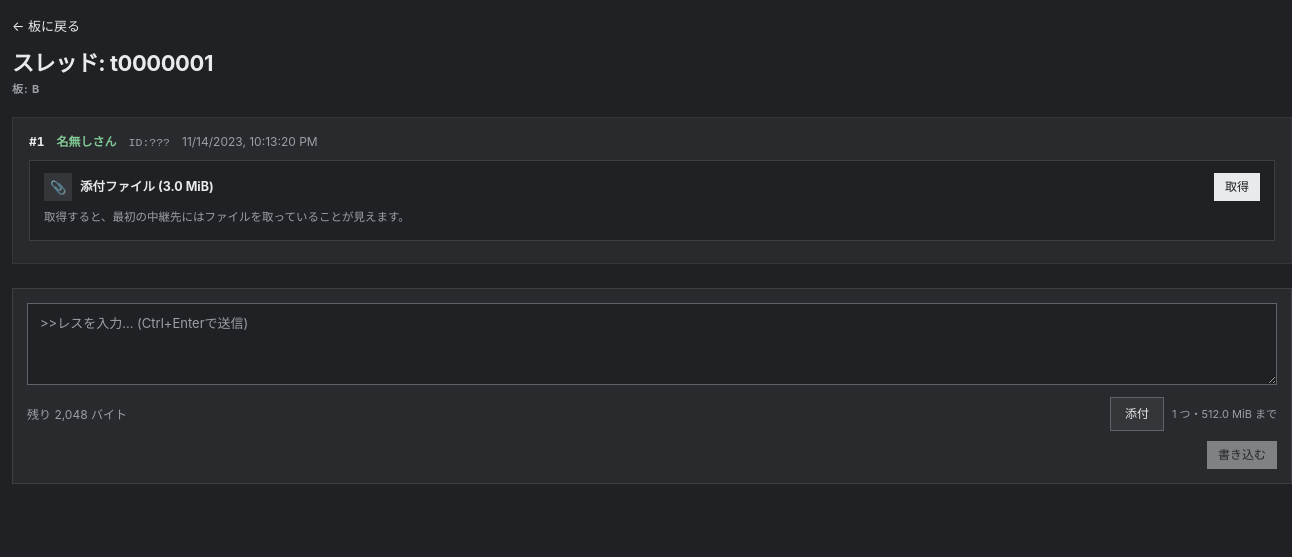
Test case: 投稿の中の添付カード › 画像は取得後にだけ表示し、画面を外すと Blob URL を破棄する
Click the button with aria-label "添付ファイルを取得": (1237, 187) [1214,173,1260,201]
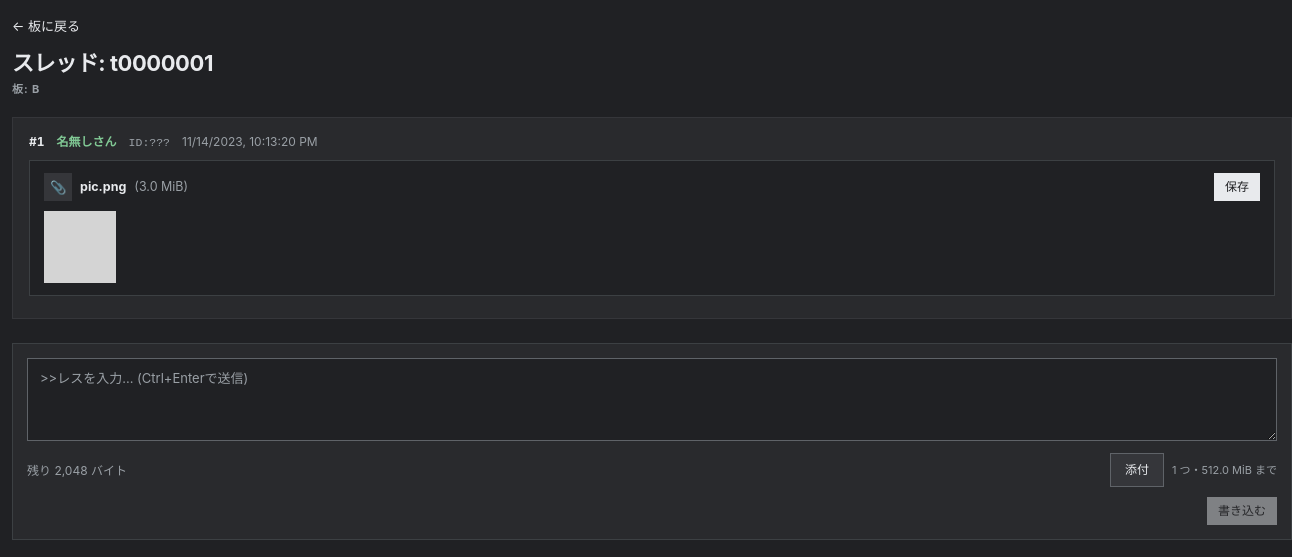
Check: the text "pic.png" is shown, box [80,176,126,198]
